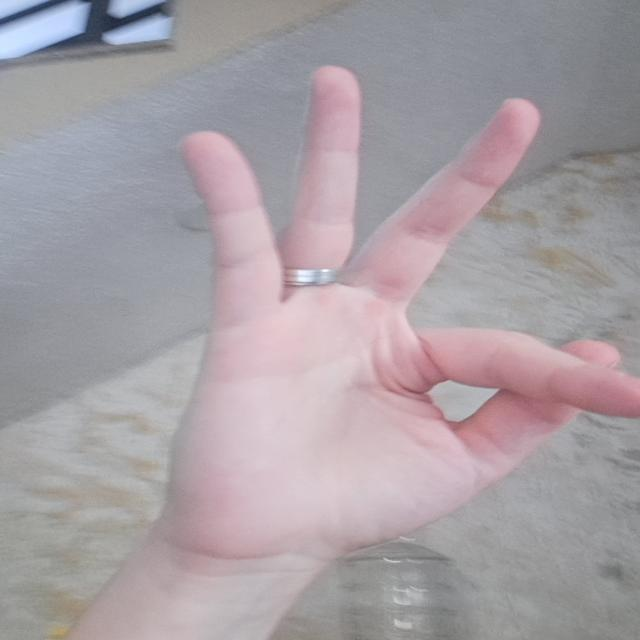F: (162, 65, 640, 547)
